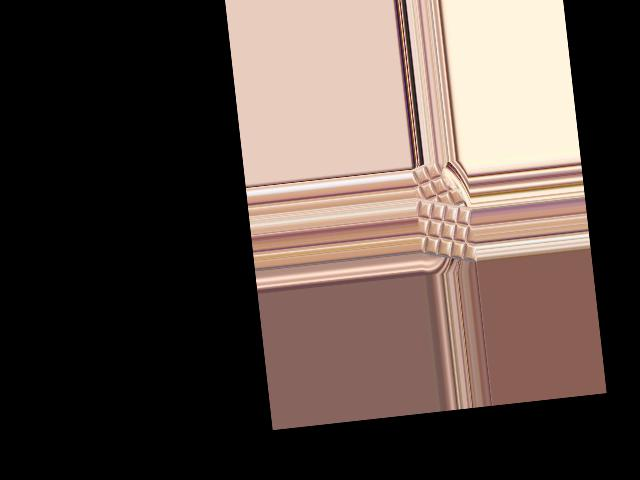chocolate: (414, 191, 476, 269)
